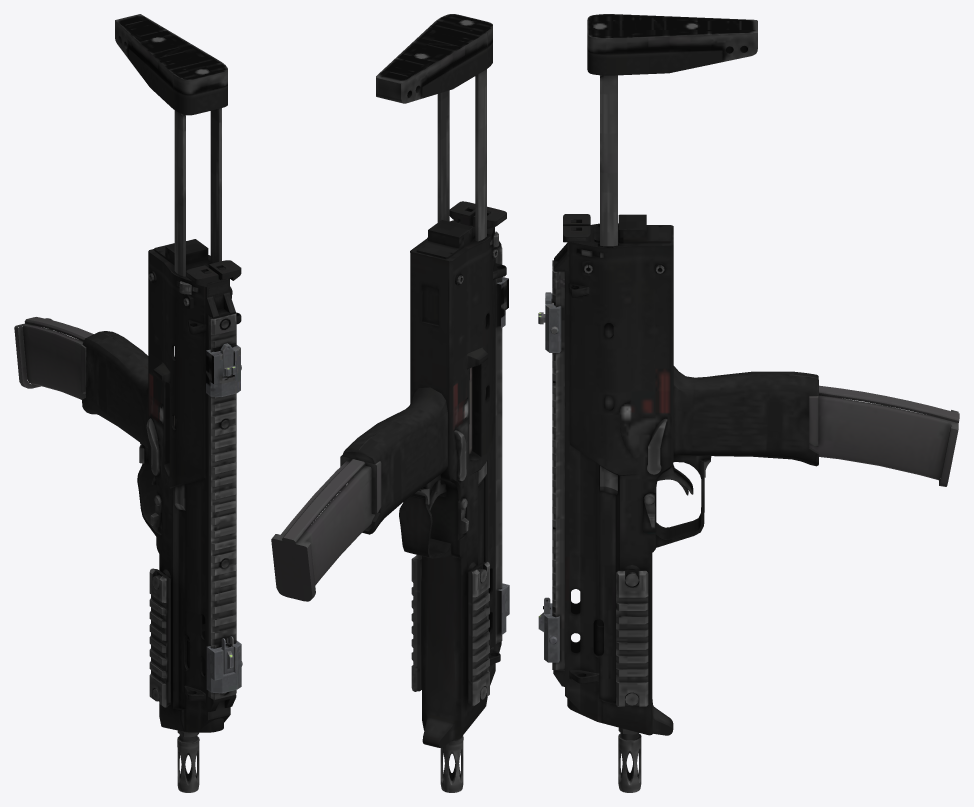
3 views of the same model, side by side, from view 1: azimuth 30°, elevation 25°; view 2: azimuth 150°, elevation 25°; view 3: azimuth 270°, elevation 25° (orthographic). The views are drawn at different scales.
Parts seen in each view (by area): view 1: MP_7; view 2: MP_7; view 3: MP_7.
Part boxes in pixels (x1,y1,x2,y2): MP_7: (14, 14, 242, 792); MP_7: (271, 14, 509, 792); MP_7: (538, 14, 959, 792).
Size of the model in its own units: 0.0491 by 0.5383 by 0.2696.
Materials: 1 (1 with a texture image).
